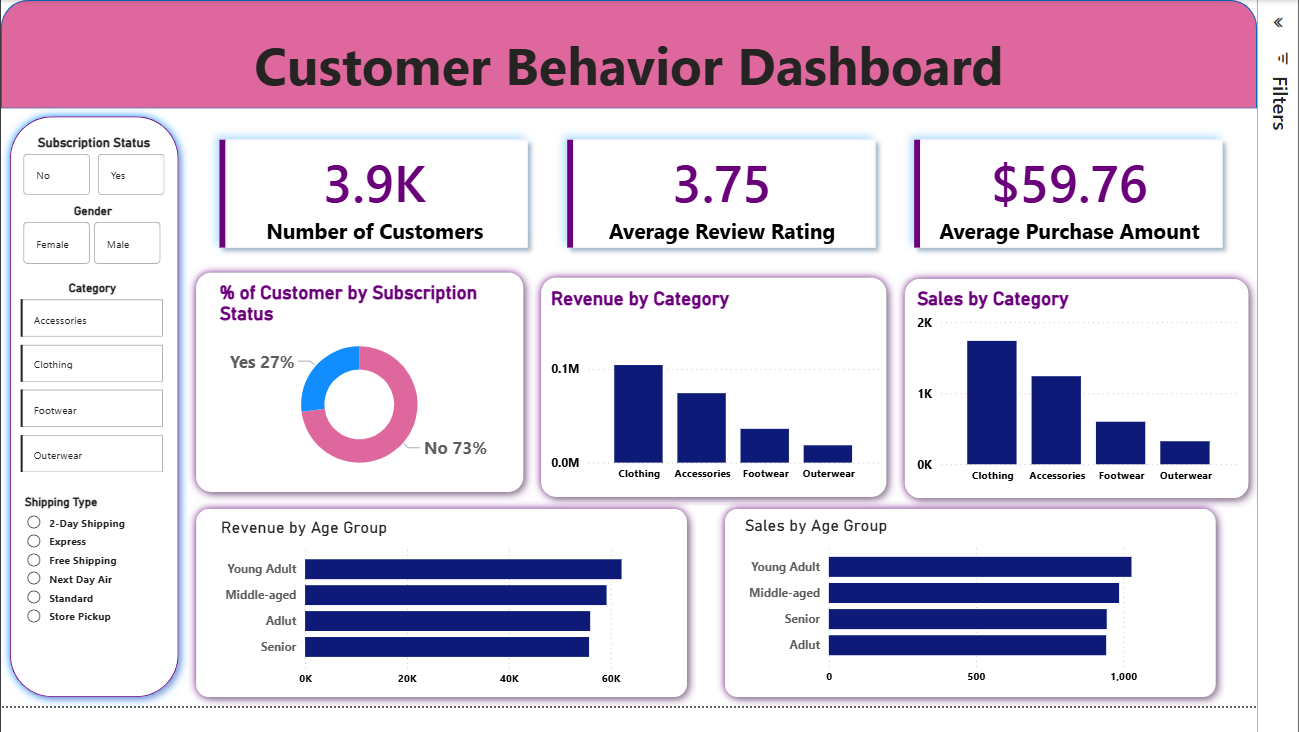

The dashboard page shown, as its layout file describes it:
{"tool":"powerbi","page":{"name":"Page 1","canvas":[1280,720],"ordinal":0},"visuals":[{"type":"cardVisual","fields":{"Data":["customer_behavior customer.Numbers of Customers","customer_behavior customer.Average Review Rating","customer_behavior customer.Average Purchase Amount"]},"box":[190,110,1090,176.7],"z":0},{"type":"shape","box":[0,0,1280,110.7],"z":1000},{"type":"textbox","box":[0,24.3,1280,86.4],"z":2000},{"type":"shape","box":[190,268.3,351.7,241.7],"z":3000},{"type":"donutChart","title":" % of Customer by Subscription Status","fields":{"Category":["customer_behavior customer.subscription_status"],"Y":["CountNonNull(customer_behavior customer.customer_id)"]},"box":[218.3,286.7,295,208.3],"z":4000},{"type":"shape","box":[541.7,273.3,370,241.7],"z":5000},{"type":"shape","box":[911.7,275,368.3,241.7],"z":6000},{"type":"clusteredColumnChart","title":"Revenue by Category","fields":{"Y":["Sum(customer_behavior customer.purchase_amount)"],"Category":["customer_behavior customer.category"]},"box":[555,293.3,345,206.7],"z":7000},{"type":"clusteredColumnChart","title":"Sales by Category","fields":{"Y":["CountNonNull(customer_behavior customer.customer_id)"],"Category":["customer_behavior customer.category"]},"box":[928.3,293.3,336.7,208.3],"z":8000},{"type":"shape","box":[0,110,190,610],"z":9000},{"type":"advancedSlicerVisual","title":"Subscription Status","fields":{"Values":["customer_behavior customer.subscription_status"]},"box":[18,138,154,67],"z":10000},{"type":"advancedSlicerVisual","title":"Gender","fields":{"Values":["customer_behavior customer.gender"]},"box":[18.2,208.2,151.8,67.3],"z":11000},{"type":"advancedSlicerVisual","title":"Category","fields":{"Values":["customer_behavior customer.category"]},"box":[15.7,287.1,155.7,202.9],"z":12000},{"type":"listSlicer","title":"Shipping Type","fields":{"Values":["customer_behavior customer.shipping_type"]},"box":[18.6,504.3,154.3,178.6],"z":13000},{"type":"shape","box":[190,510,518.3,210],"z":14001},{"type":"clusteredBarChart","title":"Revenue by Age Group","fields":{"Y":["Sum(customer_behavior customer.purchase_amount)"],"Category":["customer_behavior customer.age_group"]},"box":[218.6,527.1,469.3,180.7],"z":14002},{"type":"shape","box":[728.3,510,518.3,210],"z":14003},{"type":"clusteredBarChart","title":"Sales by Age Group","fields":{"Y":["CountNonNull(customer_behavior customer.customer_id)"],"Category":["customer_behavior customer.age_group"]},"box":[753.3,525,470,181.7],"z":14004}]}

Visuals, with their boxes on the page's 1280x720 design canvas (x1, y1, x2, y2). These are canvas units, not pixel positions in the 1299x732 screenshot, which may show the page scaled, cropped or inside an application window:
cardVisual - customer_behavior customer.Numbers of Customers x customer_behavior customer.Average Review Rating: [190, 110, 1280, 287]
shape: [0, 0, 1280, 111]
textbox: [0, 24, 1280, 111]
shape: [190, 268, 542, 510]
" % of Customer by Subscription Status" donutChart: [218, 287, 513, 495]
shape: [542, 273, 912, 515]
shape: [912, 275, 1280, 517]
"Revenue by Category" clusteredColumnChart: [555, 293, 900, 500]
"Sales by Category" clusteredColumnChart: [928, 293, 1265, 502]
shape: [0, 110, 190, 720]
"Subscription Status" advancedSlicerVisual: [18, 138, 172, 205]
"Gender" advancedSlicerVisual: [18, 208, 170, 276]
"Category" advancedSlicerVisual: [16, 287, 171, 490]
"Shipping Type" listSlicer: [19, 504, 173, 683]
shape: [190, 510, 708, 720]
"Revenue by Age Group" clusteredBarChart: [219, 527, 688, 708]
shape: [728, 510, 1247, 720]
"Sales by Age Group" clusteredBarChart: [753, 525, 1223, 707]
